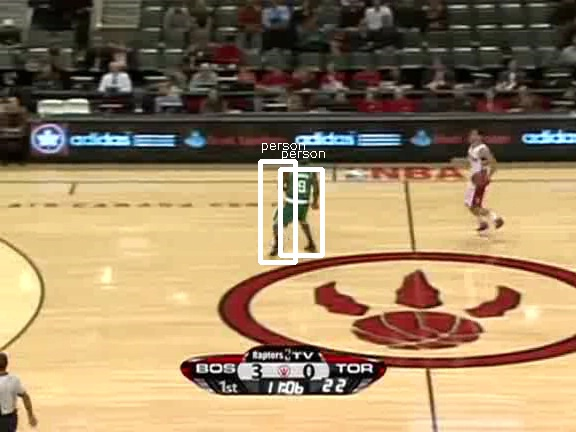person: (284, 158, 318, 239), (283, 158, 317, 239), (285, 158, 319, 239), (284, 157, 318, 238), (284, 159, 318, 240)
target_negative: (376, 247, 537, 426), (24, 398, 388, 413), (17, 326, 112, 380), (476, 286, 502, 390), (97, 210, 175, 224), (188, 427, 324, 430)
